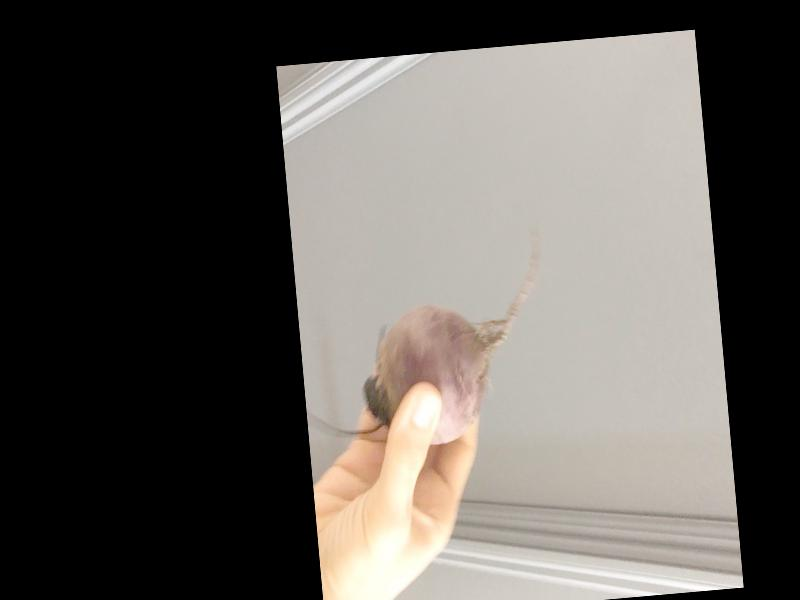Beet: (291, 224, 556, 454)
